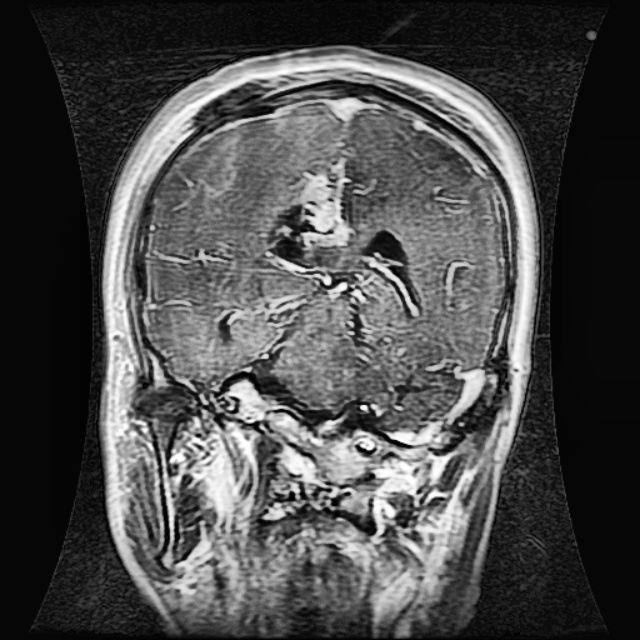Glioma: (264, 153, 357, 272)
